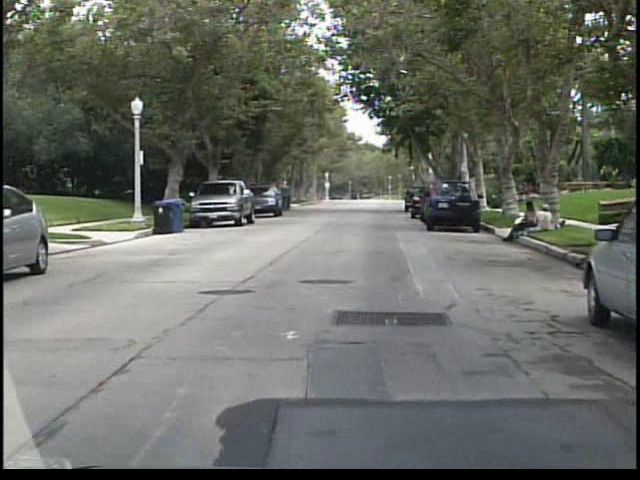person: (505, 198, 541, 243), (531, 204, 555, 231)
